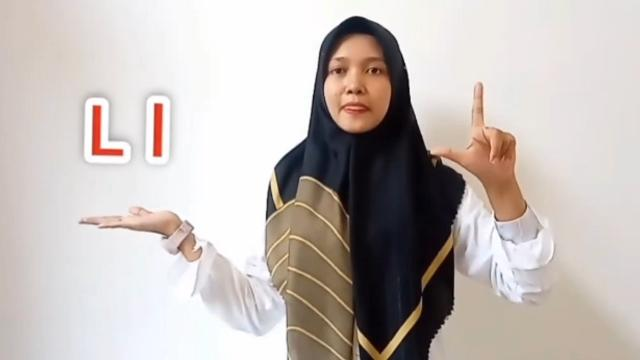L: (430, 78, 516, 190)
